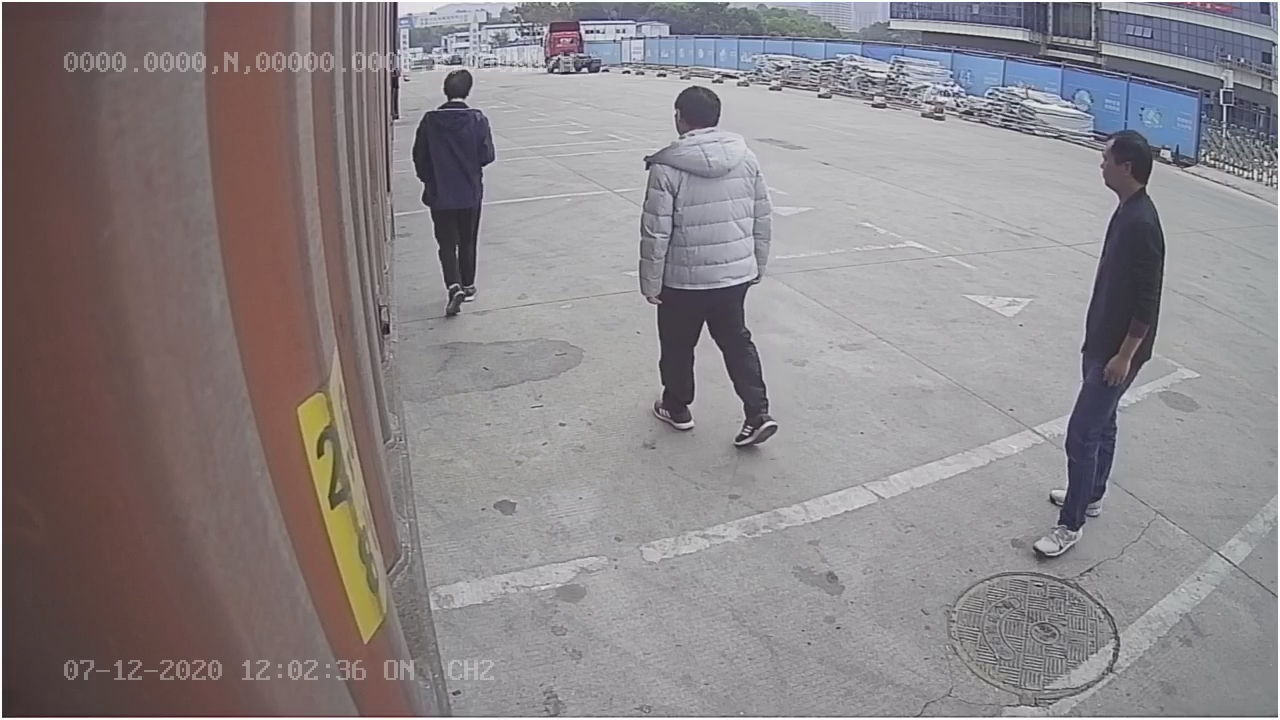person: (1033, 117, 1171, 560), (636, 84, 778, 452), (412, 63, 502, 317)
